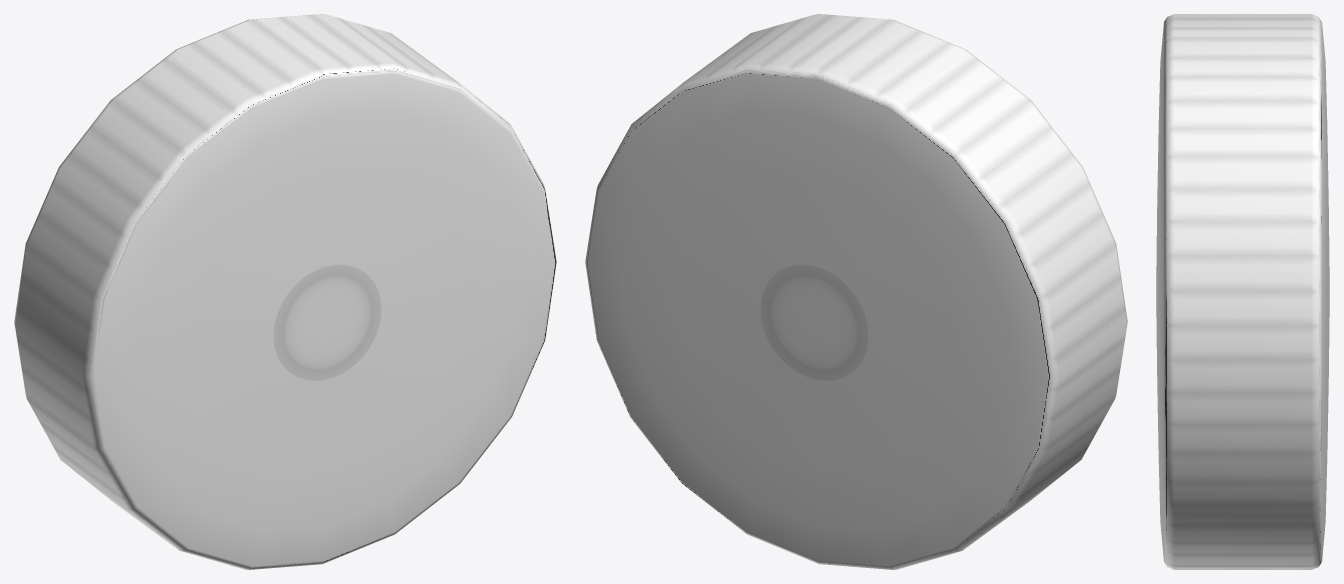
Rendered from Chip.fbx.
3 renders of one model, left to right at view 1: azimuth 30°, elevation 25°; view 2: azimuth 150°, elevation 25°; view 3: azimuth 270°, elevation 25°, orthographic. The views are drawn at different scales.
Parts seen in each view (by area): view 1: Chip; view 2: Chip; view 3: Chip.
Part boxes in pixels (x1,y1,x2,y2): Chip: (14,14,556,569); Chip: (585,14,1127,569); Chip: (1156,14,1329,569).
Bounding box in the file's own units: 92.35 × 92.35 × 28.61.
Materials: 1 (1 with a texture image).
